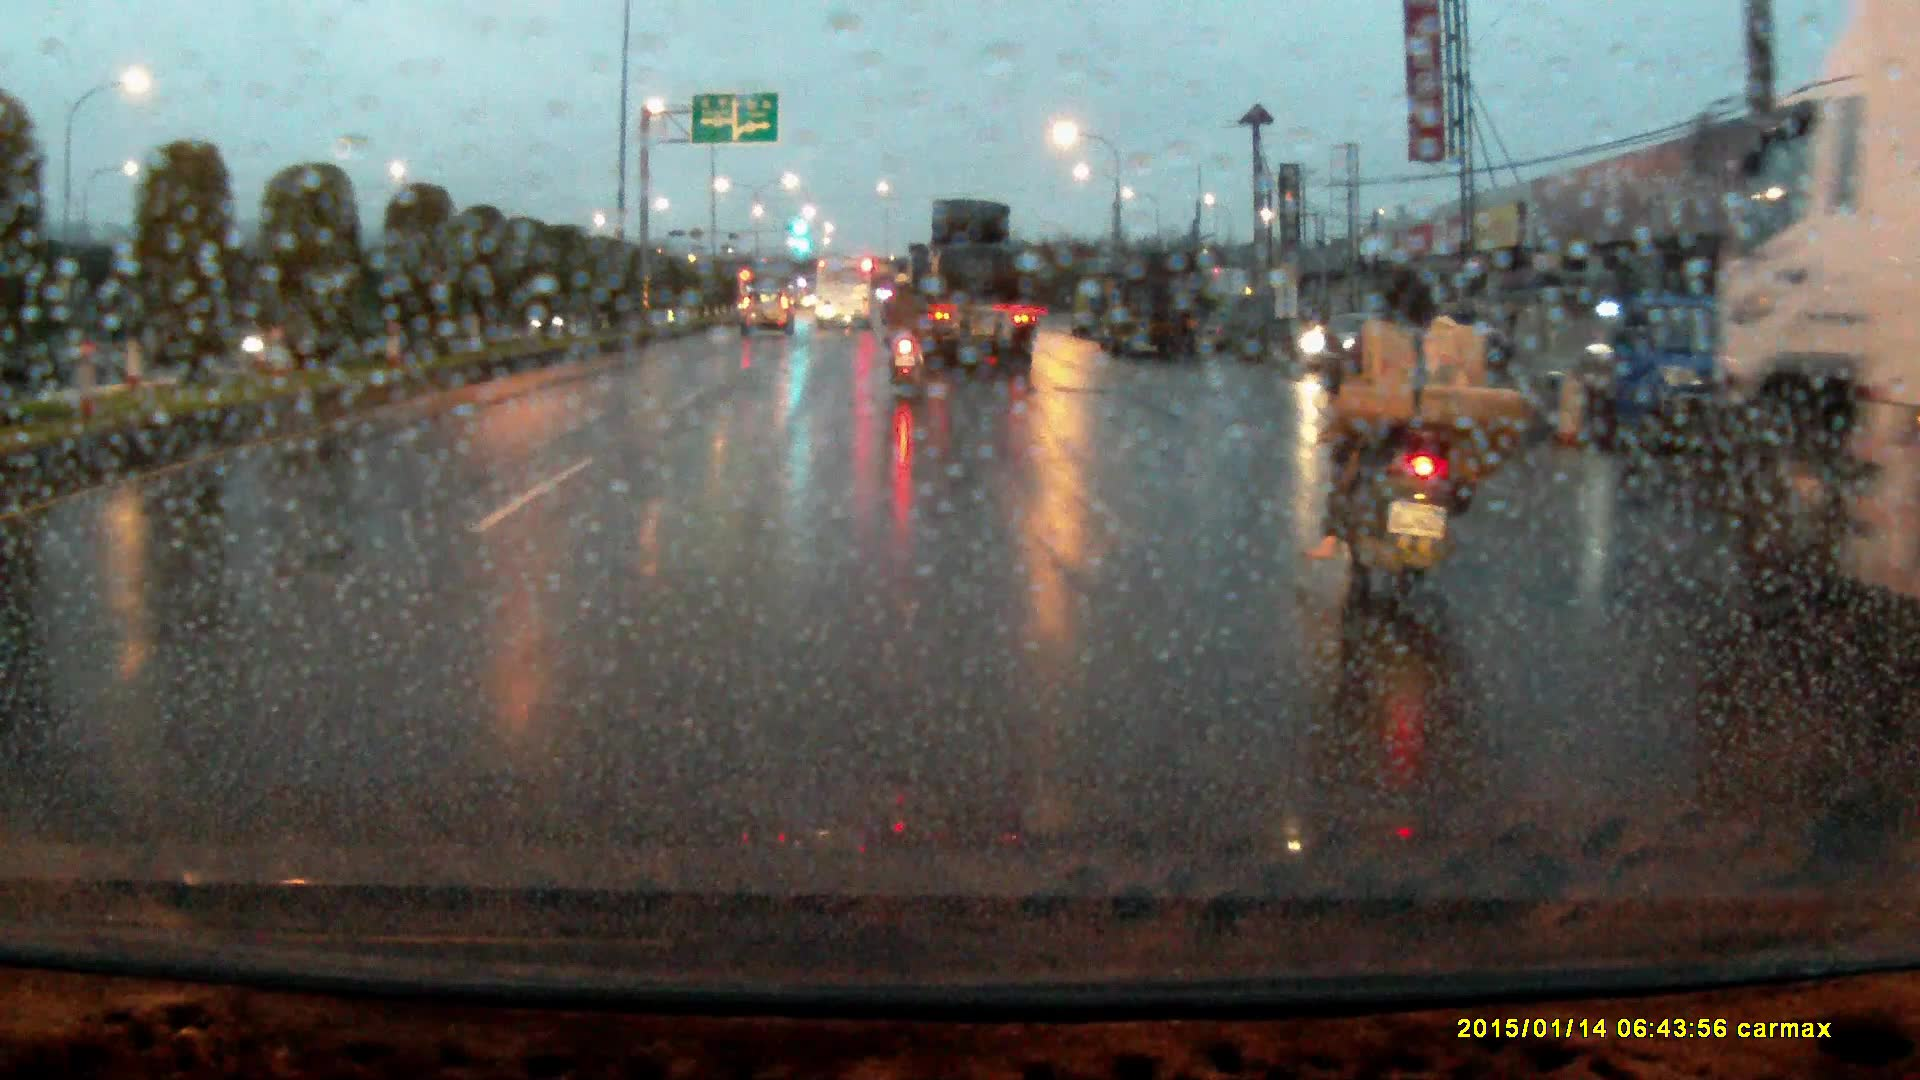rider: (1311, 251, 1538, 646), (882, 267, 934, 384)
vehicle: (1700, 34, 1920, 610), (1526, 287, 1722, 450), (893, 197, 1036, 375), (1107, 253, 1208, 364), (814, 256, 875, 333), (1070, 279, 1117, 338), (740, 291, 795, 340)
